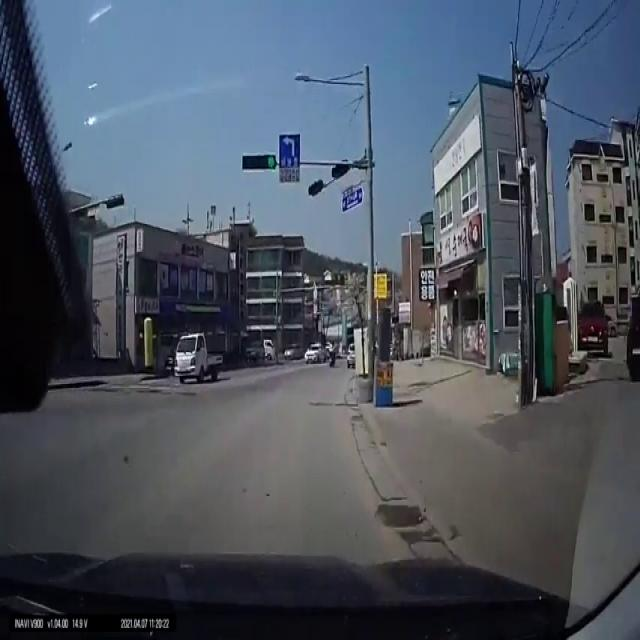Pothole: (372, 500, 427, 531)
